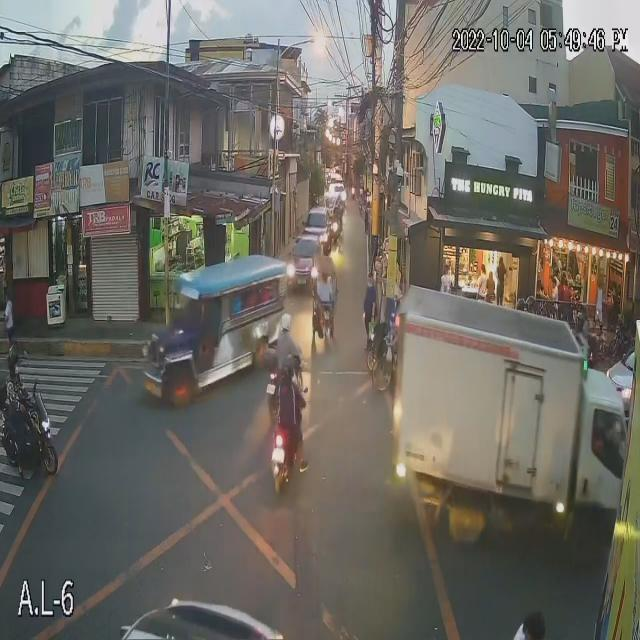helmet: (281, 356, 295, 376), (280, 316, 293, 331)
motorcycle: (0, 377, 59, 480), (268, 394, 306, 494), (266, 351, 306, 418), (311, 294, 335, 344)
rider: (270, 389, 308, 474), (3, 378, 35, 442), (311, 265, 339, 321), (274, 332, 300, 384)
